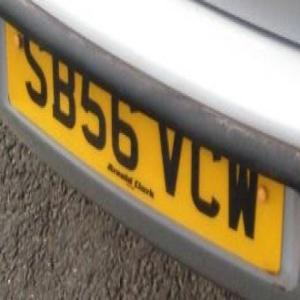Plate: (7, 15, 273, 250)
